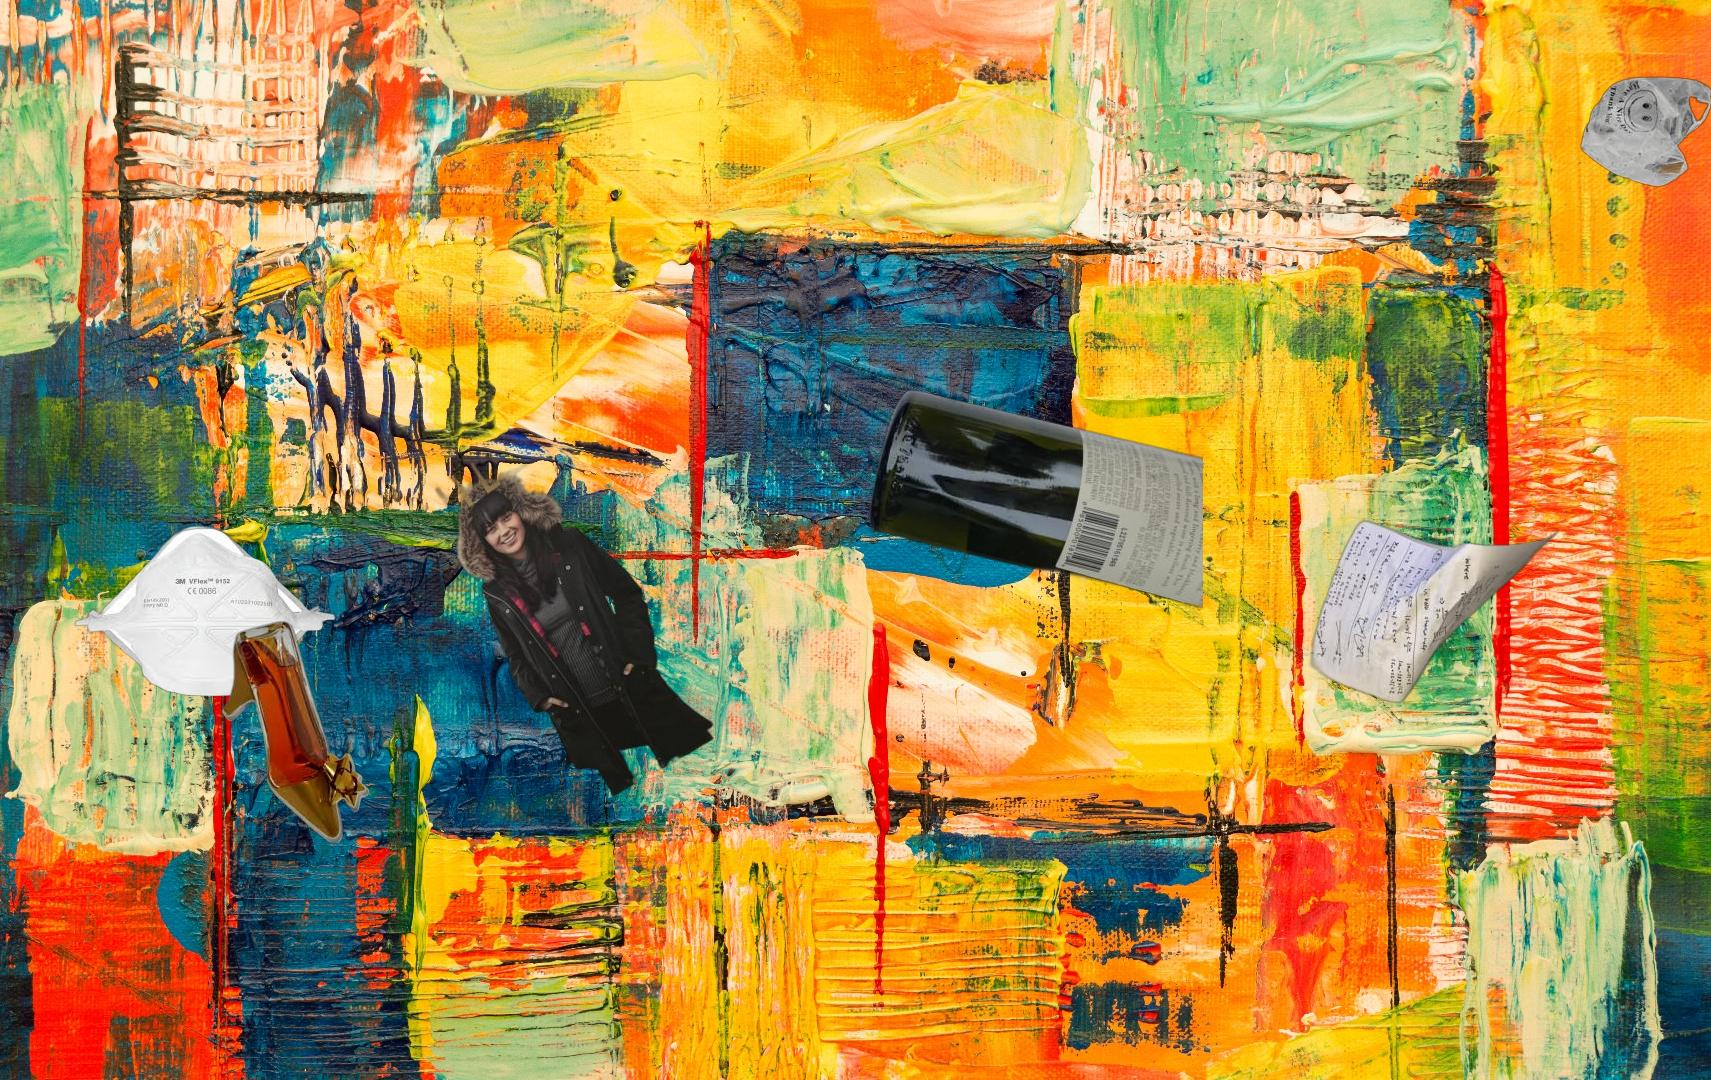glass: (865, 386, 1203, 613)
paper: (424, 457, 719, 822), (1308, 518, 1560, 704)
plastic-bag: (1579, 75, 1711, 190)
shoes: (220, 618, 372, 844)
trash: (71, 523, 338, 699)
